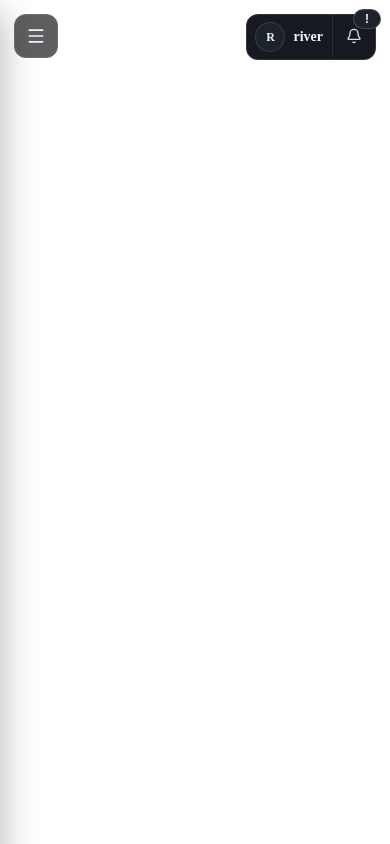
Scenario: the closed mobile state › yields to the drawer, whose account row then carries the identity
Expected: the element with class "sidebar-mobile-account" is shown, [246,14,376,60]
Click the button named "Open menu".
click(36, 36)  # box [14,14,58,58]
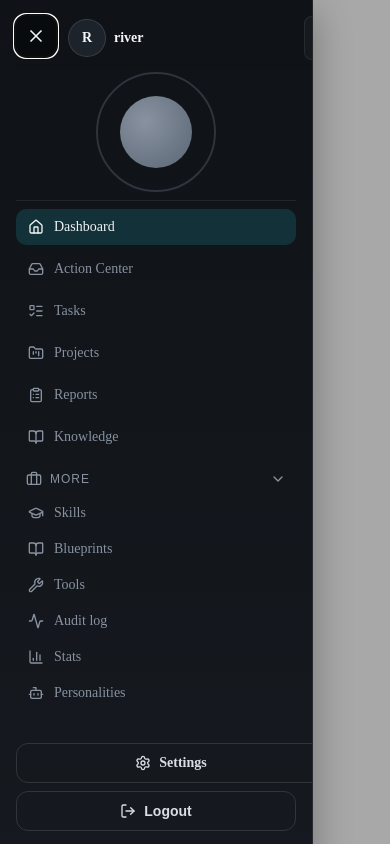
Expected: the text "river" is shown, [114,30,144,45]
Expected: the element with class "sidebar-mobile-account" is gone
Click the button named "Close menu".
click(36, 36)  # box [14,14,58,58]
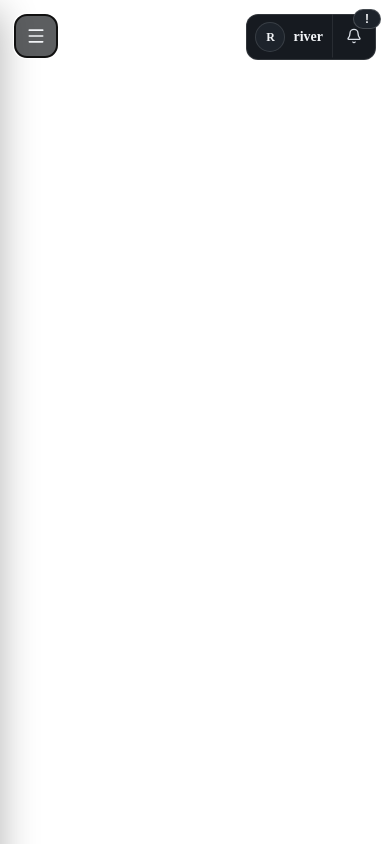
Expected: the element with class "sidebar-mobile-account" is shown, [246,14,376,60]
